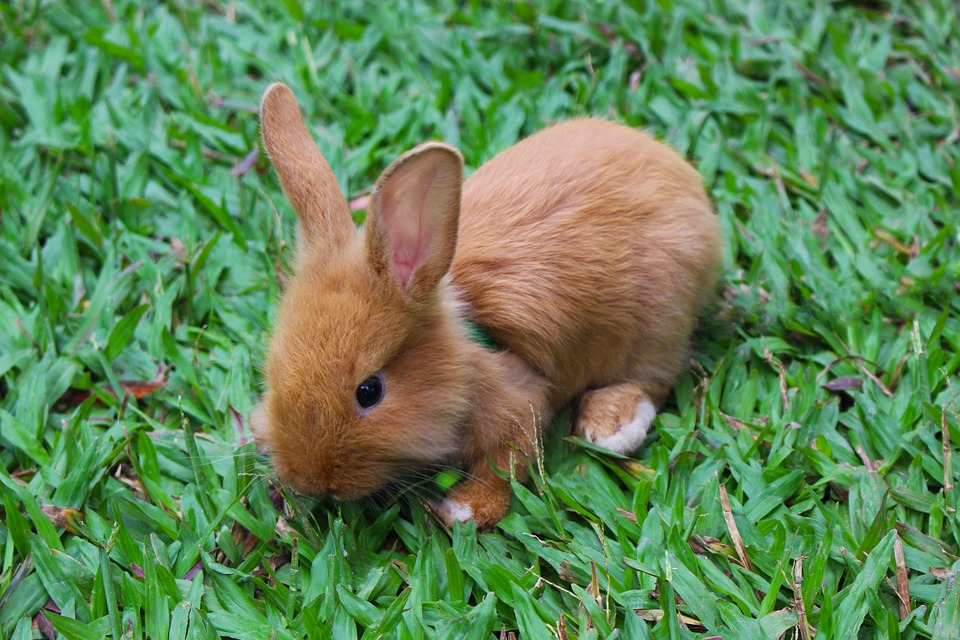bunny: (202, 78, 746, 530)
